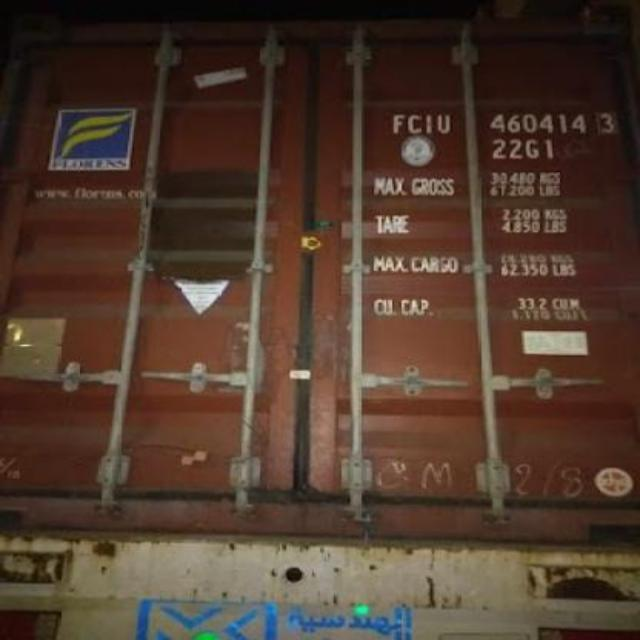0: (522, 110, 538, 138)
1: (554, 110, 568, 136)
3: (596, 112, 618, 134)
4: (482, 109, 504, 135), (540, 109, 556, 135), (570, 112, 588, 134)
6: (506, 112, 522, 136)
C: (406, 112, 419, 136)
F: (392, 112, 404, 138)
I: (421, 112, 434, 136)
U: (434, 108, 452, 138)
